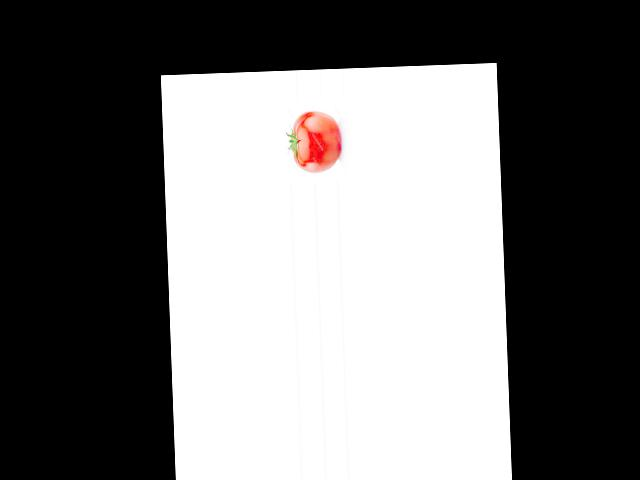tomato: (290, 109, 341, 173)
